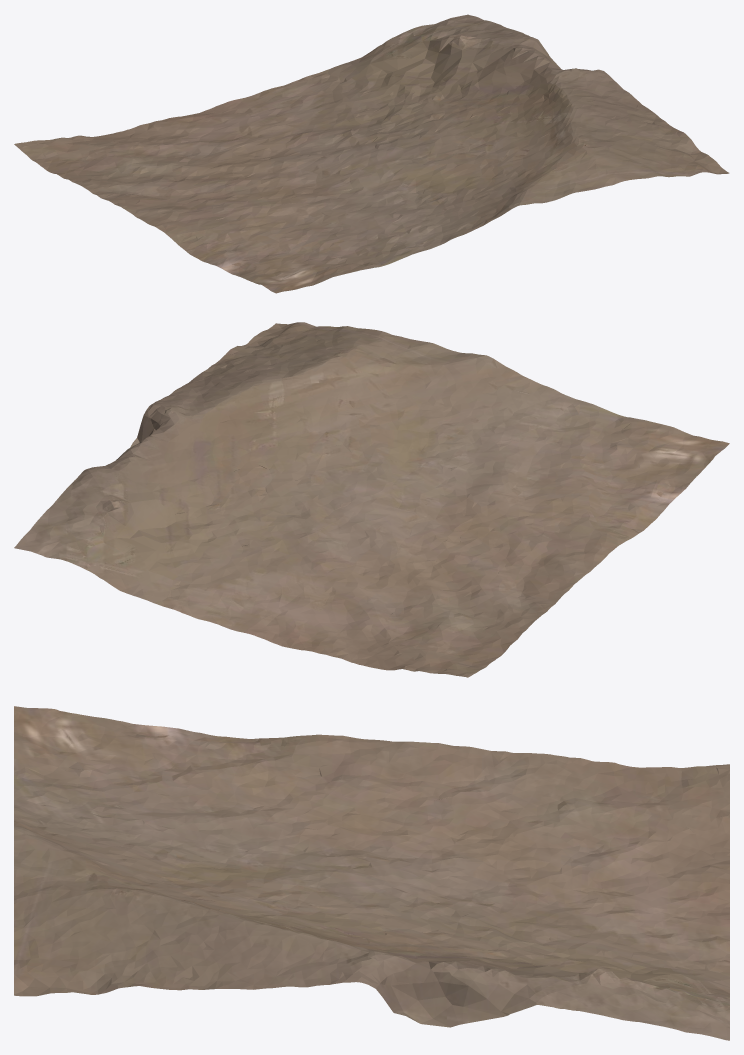
3 views of the same model, one above another, from view 1: azimuth 30°, elevation 25°; view 2: azimuth 150°, elevation 25°; view 3: azimuth 270°, elevation 25° (orthographic). The views are drawn at different scales.
Bounding box in the file's own units: 1.04 × 0.2001 × 1.04.
3 materials, 3 textured.
